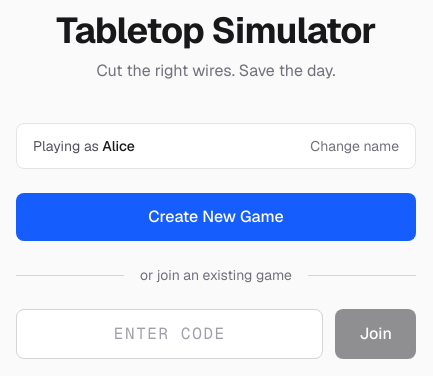
Home (app/page.tsx) › authenticated lobby › create game › sends create_game, connects, and shows Creating state
Click the button "Create New Game" at (216, 217), box [16, 193, 416, 241]
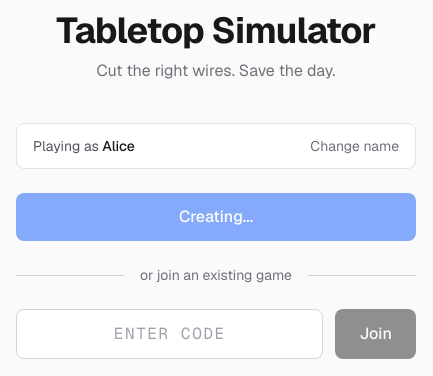
Expected: the button "Creating..." is disabled, [16, 193, 416, 241]
